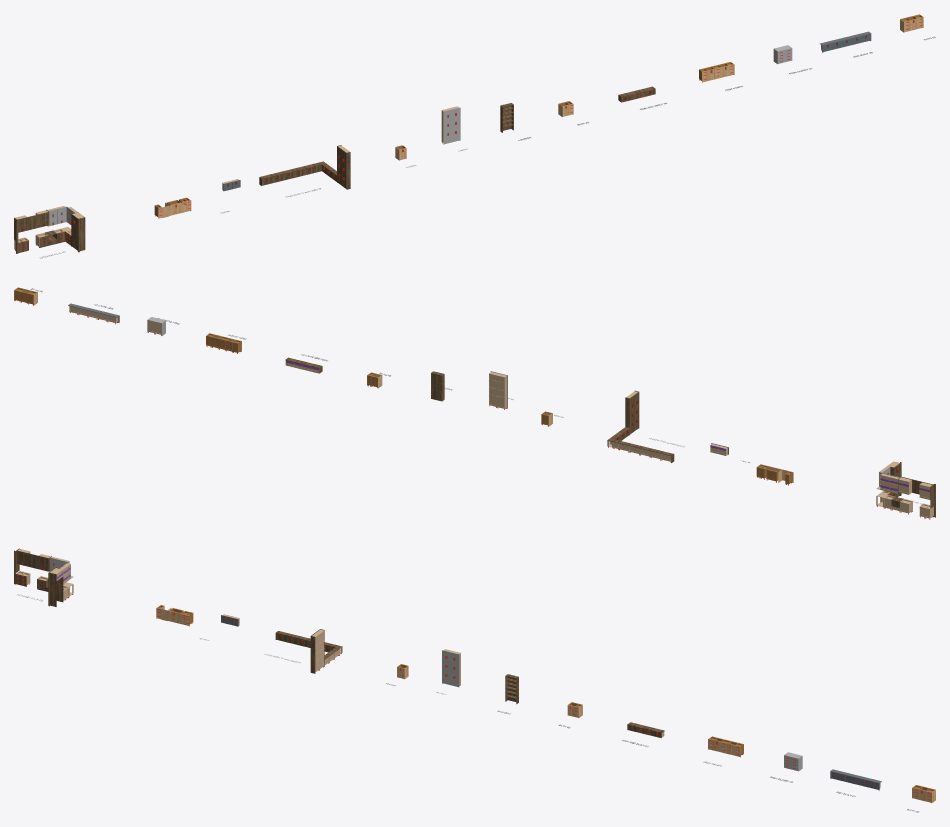
3 renders of one model, top to bottom at view 1: azimuth 30°, elevation 25°; view 2: azimuth 150°, elevation 25°; view 3: azimuth 330°, elevation 25°, orthographic.
Visible parts, largest first — view 1: _(Loose Entity); view 2: no part large enough to name; view 3: _(Loose Entity).
Boxes of the visible parts, bbox=[...] form: _(Loose Entity): bbox=[16, 27, 923, 253]; _(Loose Entity): bbox=[14, 550, 931, 802].
Bounding box in the file's own units: 78.89 × 3.13 × 4.09.
10 materials, 4 textured.
